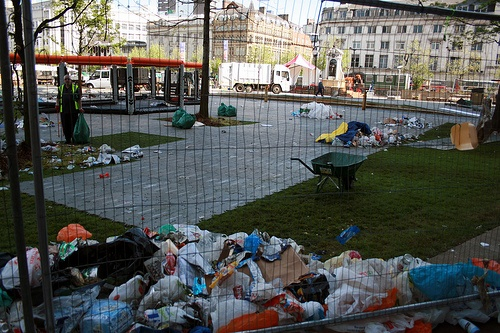rubble: (13, 220, 491, 333), (4, 131, 157, 165), (320, 118, 444, 149), (290, 98, 341, 120)
